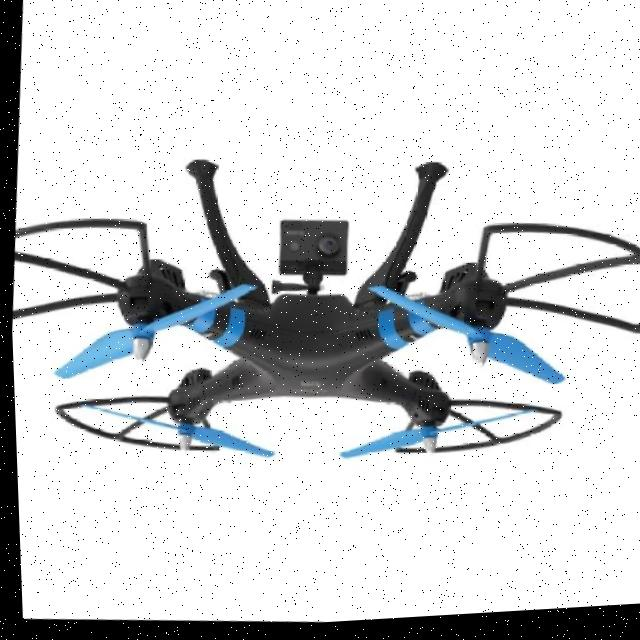drones: (4, 114, 640, 532)
